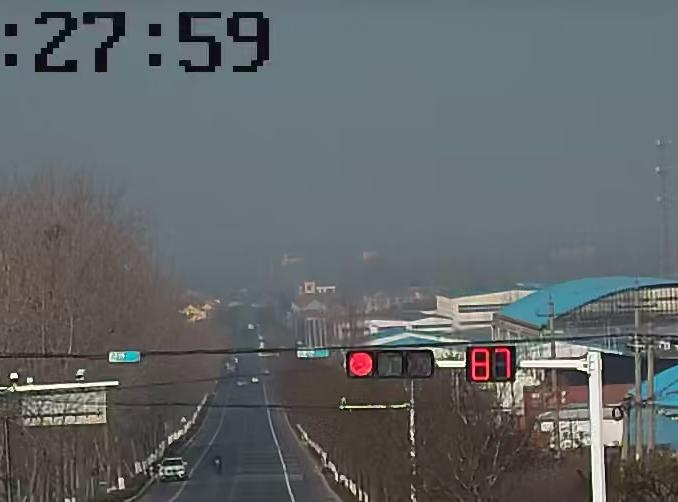red: (344, 352, 377, 378)
redtime: (469, 348, 515, 382)
